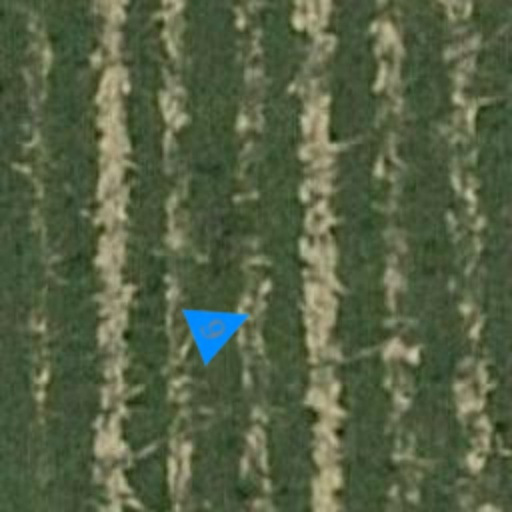triangle: (182, 286, 262, 366)
